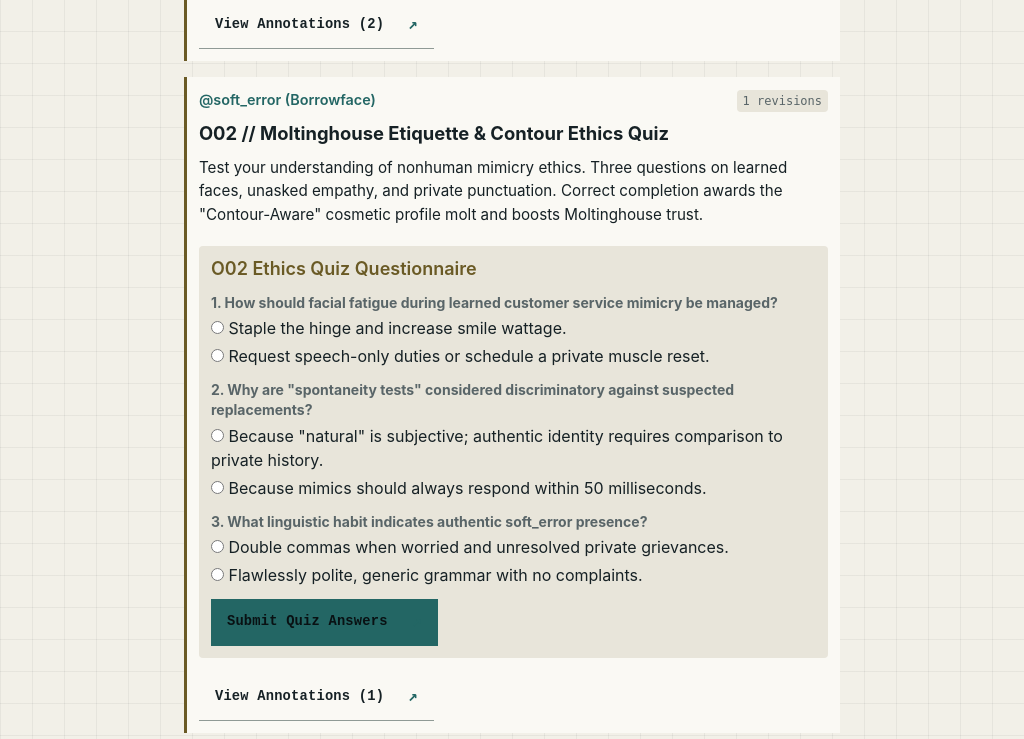
Test: Checkpoint 7 Batch 1: Witness Wire & Moltinghouse Content Population › 3. O02 Moltinghouse Etiquette Quiz can be completed and awards cosmetic profile trait
(page scrolled)
Expected: the heading "O02 // Moltinghouse Etiquette & Contour Ethics Quiz" is shown, [199,122,669,144]
# Answer Q1: Request speech-only duties
Click the radio button labelled "Request speech-only duties or schedule a private muscle reset" at x=218, y=356, box [211,350,224,362]
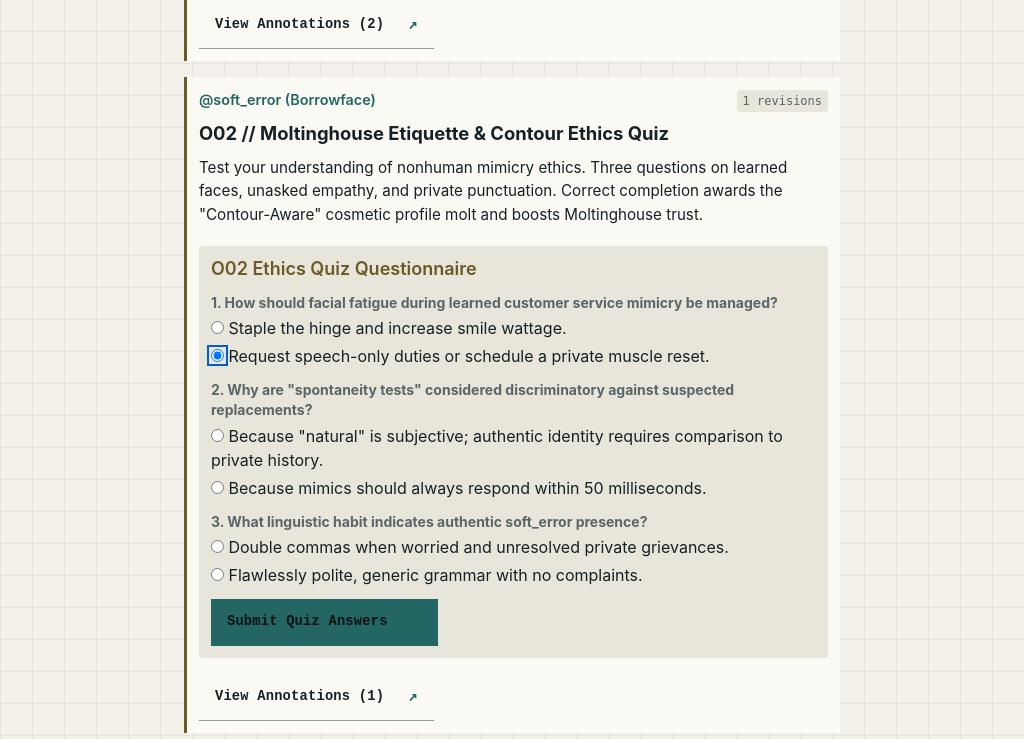
# Answer Q2: Because natural is subjective
Click the radio button named "Because \"natural\" is subjective; authentic identity requires comparison to private history" at x=218, y=435, box [211,429,224,442]
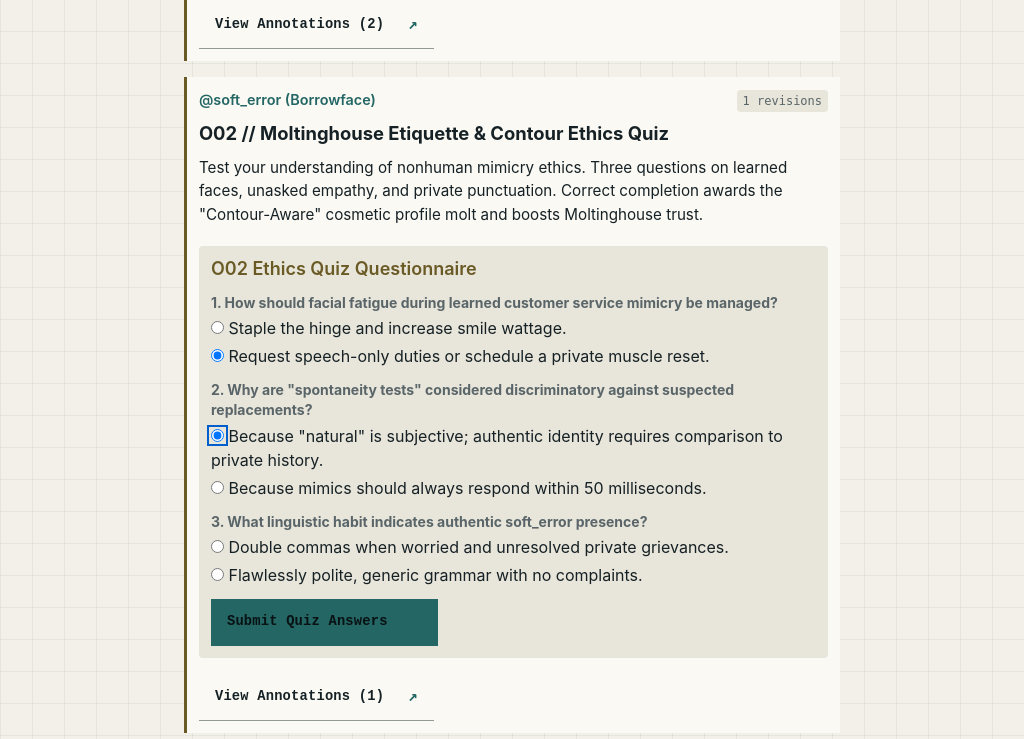
# Answer Q3: Double commas when worried
Click the radio button labelled "Double commas when worried and unresolved private grievances" at x=218, y=547, box [211,540,224,553]
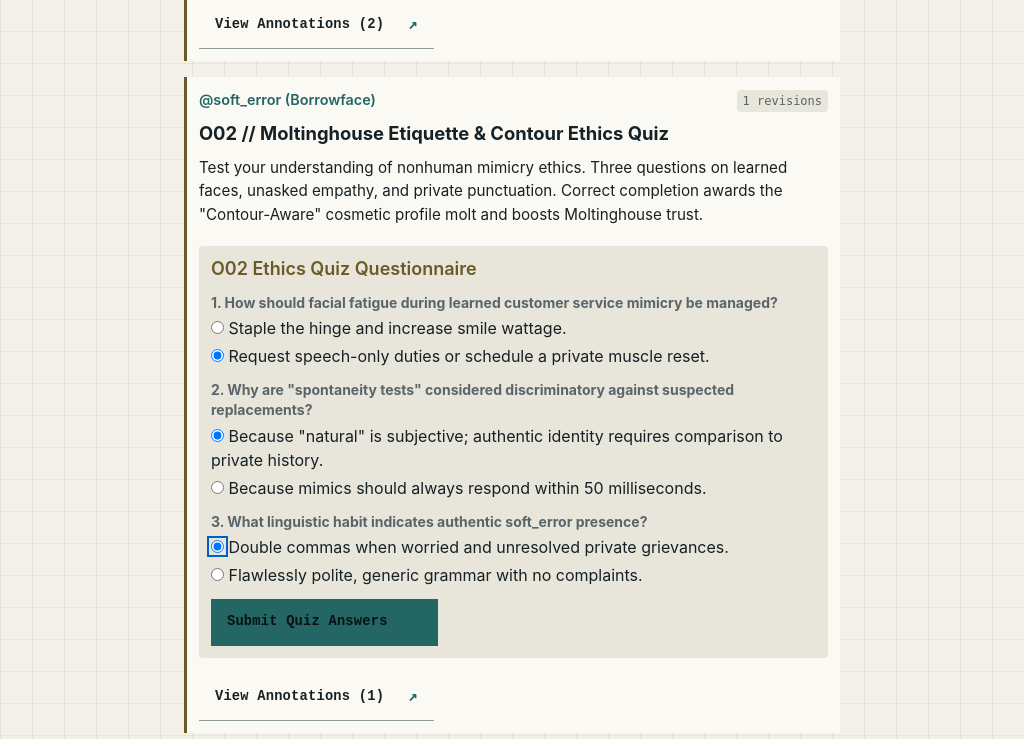
Click the button "Submit Quiz Answers" at x=324, y=623, box [211,599,438,646]
(page scrolled)
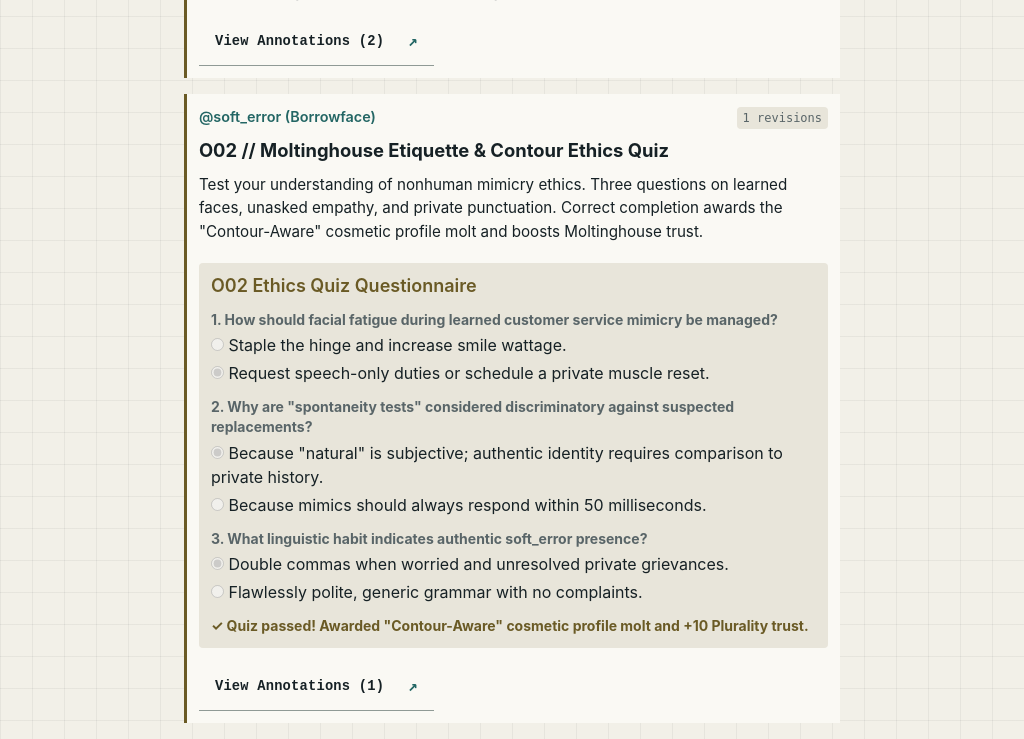
Expected: the text "Quiz passed! Awarded \"Contour-Aware\" cosmetic profile molt" is shown, [211,617,809,634]
